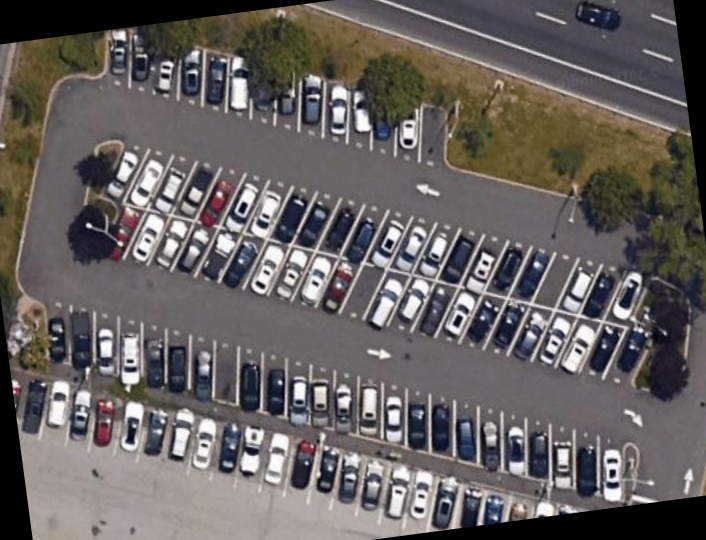parkingspot: (83, 137, 658, 391), (38, 295, 626, 507), (10, 367, 590, 534), (102, 27, 449, 174)
